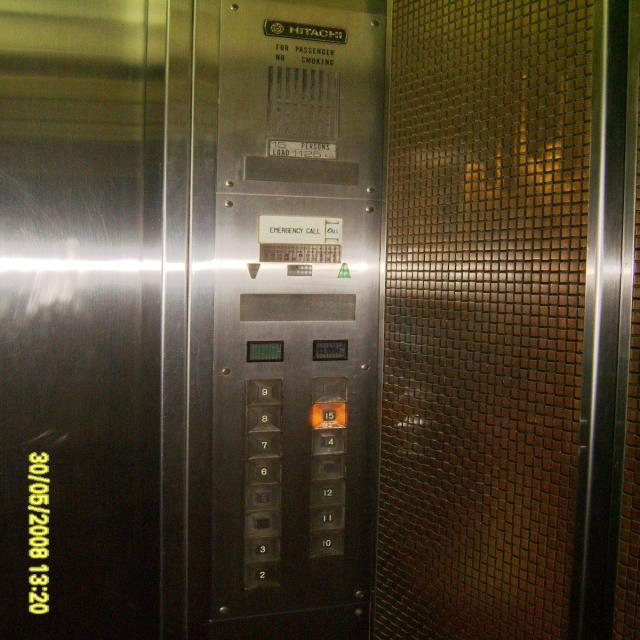10: (307, 526, 347, 558)
11: (307, 503, 347, 532)
12: (308, 478, 347, 508)
14: (308, 428, 347, 457)
15: (310, 402, 348, 431)
2: (242, 560, 282, 590)
3: (242, 534, 282, 565)
5: (242, 484, 282, 513)
6: (243, 458, 283, 488)
7: (243, 432, 283, 462)
8: (244, 405, 283, 435)
9: (244, 377, 283, 407)
blur: (242, 508, 282, 538), (308, 453, 347, 482), (310, 375, 348, 404)
text_blur: (245, 340, 284, 362)
text_close door: (311, 339, 348, 361)
